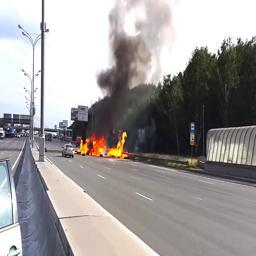fire: (77, 130, 129, 157)
